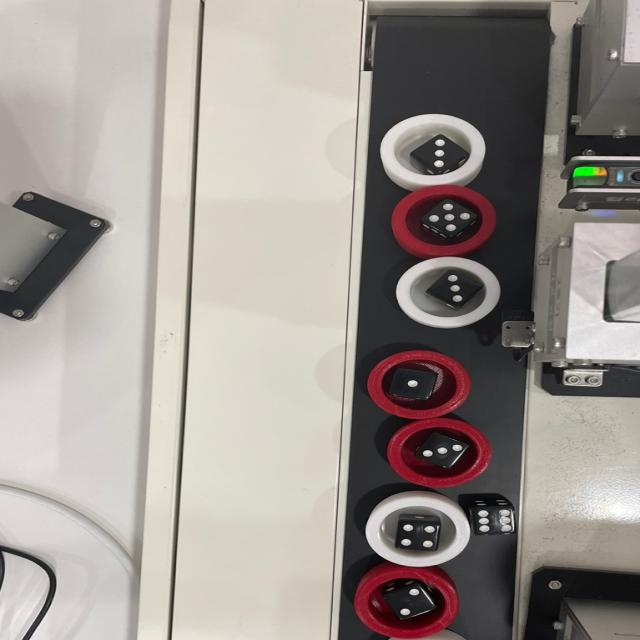DICE1: (388, 365, 439, 400)
DICE2: (381, 583, 439, 621)
DICE3: (424, 269, 485, 310), (408, 133, 470, 172), (412, 433, 470, 470)
DICE4: (395, 522, 438, 553)
DICE5: (417, 198, 481, 239)
DICE6: (468, 504, 518, 538)
RedChip: (391, 184, 496, 255), (388, 419, 495, 488), (355, 567, 456, 637), (370, 350, 472, 418)
WhiteChip: (383, 112, 487, 184), (398, 259, 503, 330), (368, 498, 469, 566)
